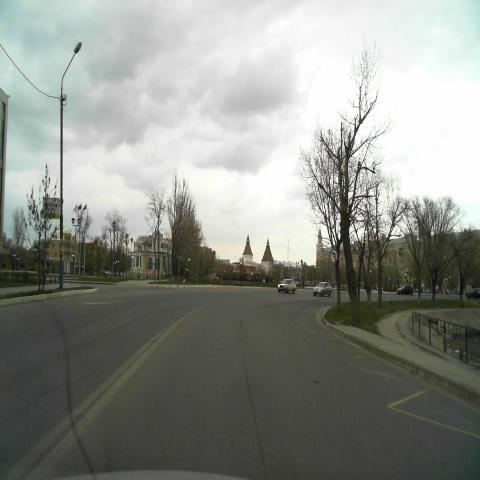3_18_2: (330, 246, 338, 264)
